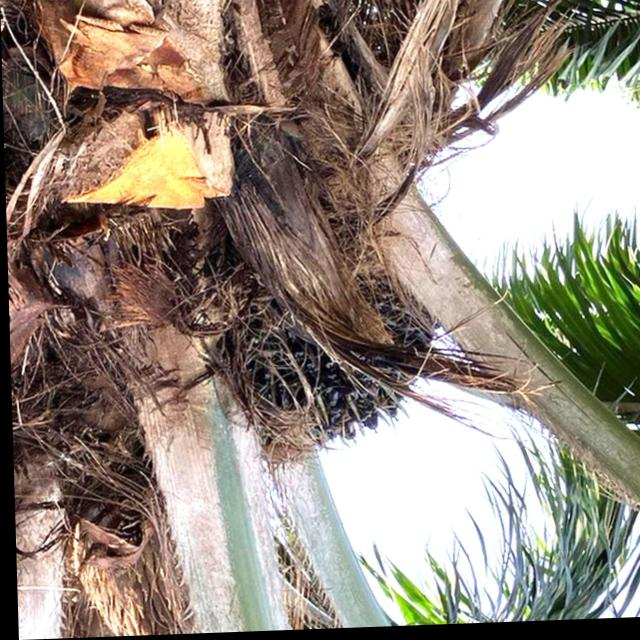unripe: (215, 215, 445, 473)
